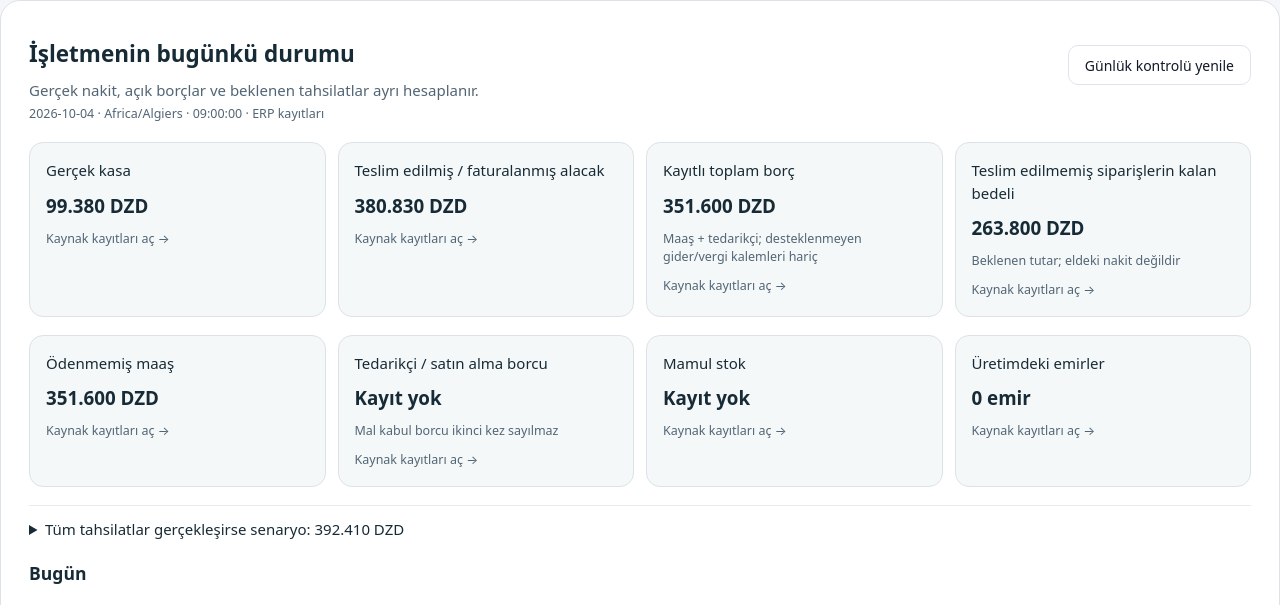
Test case: drills into the source rows and labels projected money separately
Check: the text "99.380 DZD" is shown, box [46,192,148,220]
Check: the heading "Tüm tahsilatlar gerçekleşirse senaryo: 392.410 DZD" is shown, box [45,519,404,539]
Click the button "Gerçek kasa 99.380 DZD Kaynak kayıtları aç →" at (88, 170), box [29,142,326,317]
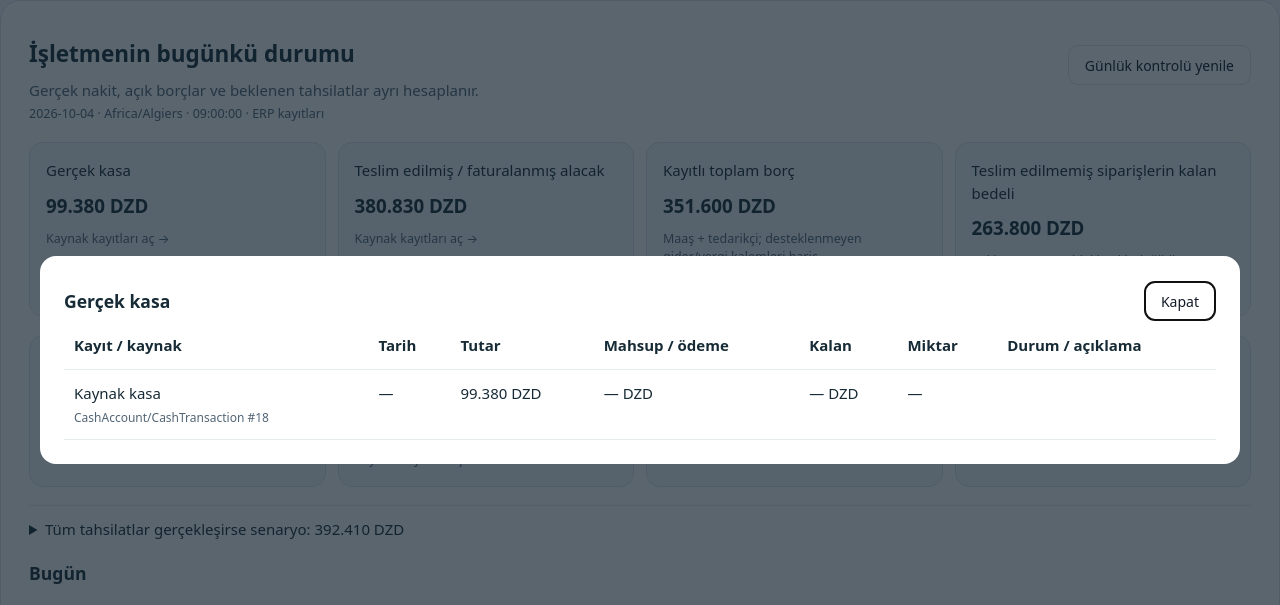
Check: the text "CashAccount/CashTransaction #18" is shown, box [74,409,269,426]
